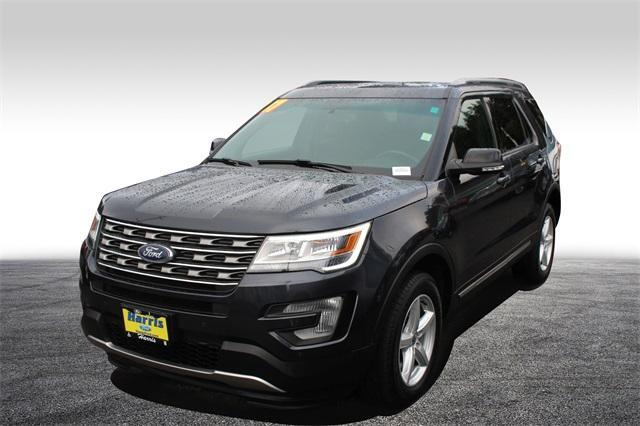Ford Explorer: (78, 77, 561, 417)
